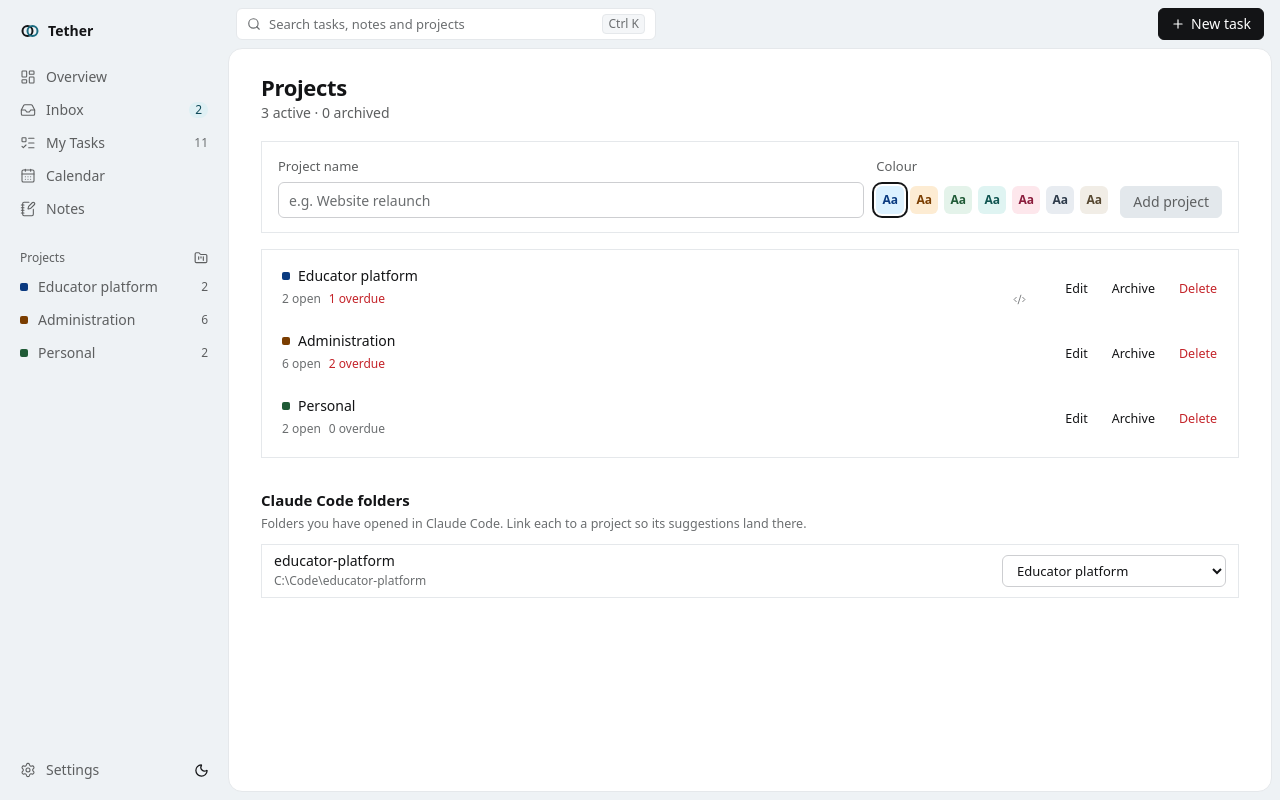
Test: Projects list › edits name, description and colour
This screenshot has width=1280, height=800.
Click the button with aria-label "Edit Personal".
click(1076, 418)  # box [1054,404,1099,432]
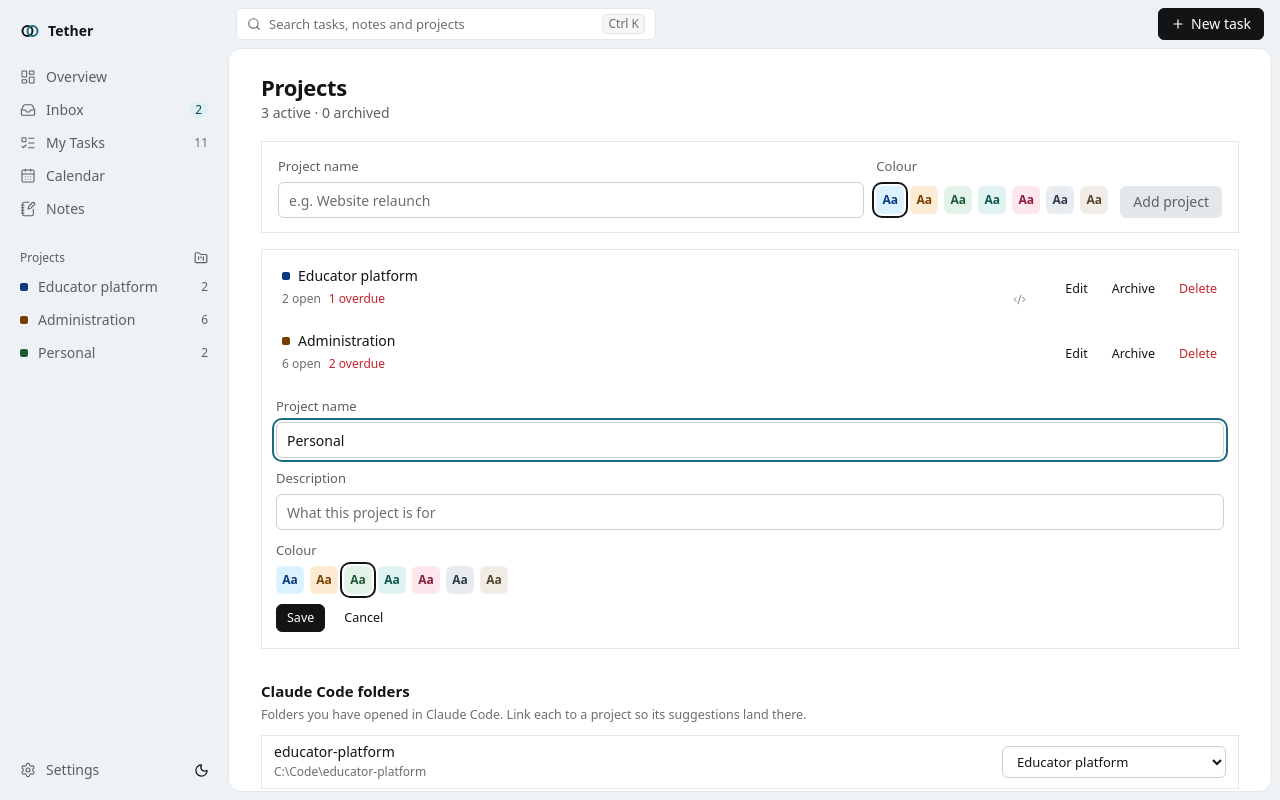
Replace the text in the 2nd field labelled "Project name" with "Home" at x=750, y=440, box [276,422,1224,458]
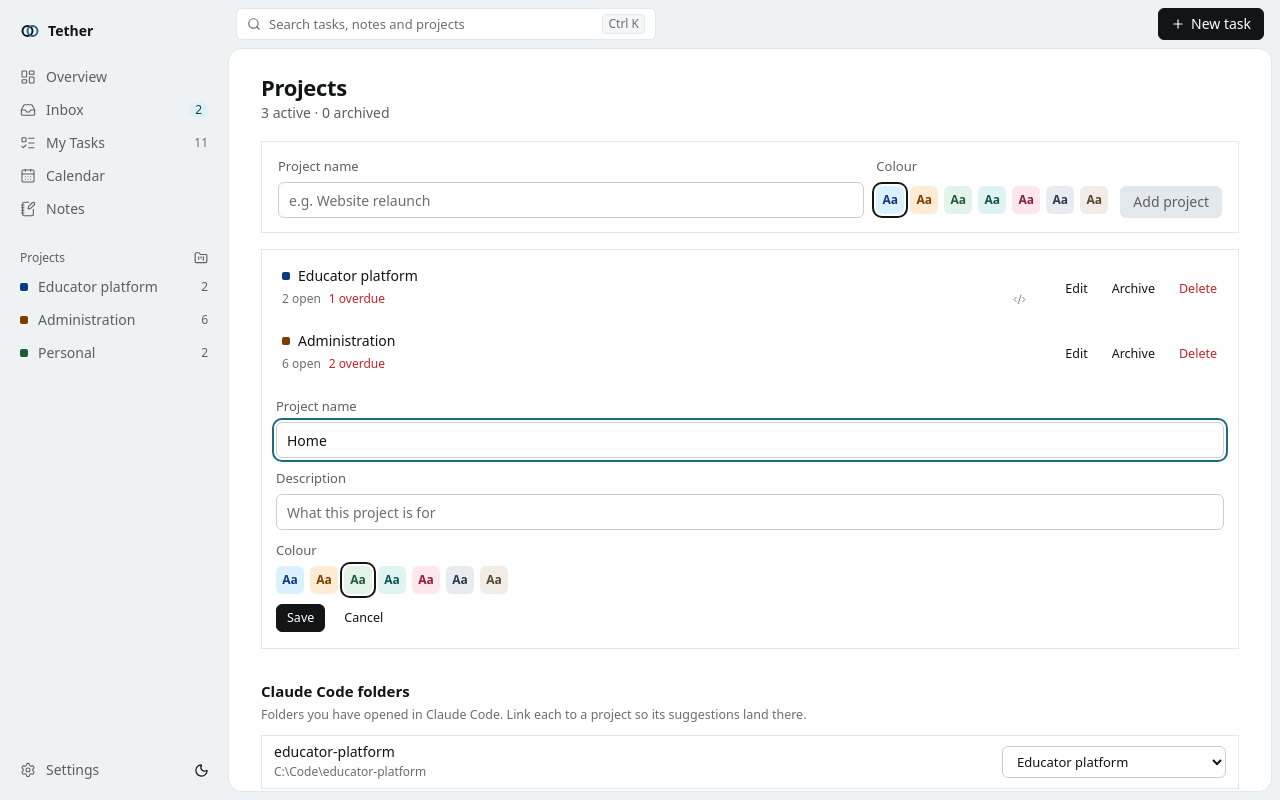
Click the button with aria-label "Rose".
click(426, 580)  # box [412,566,440,594]
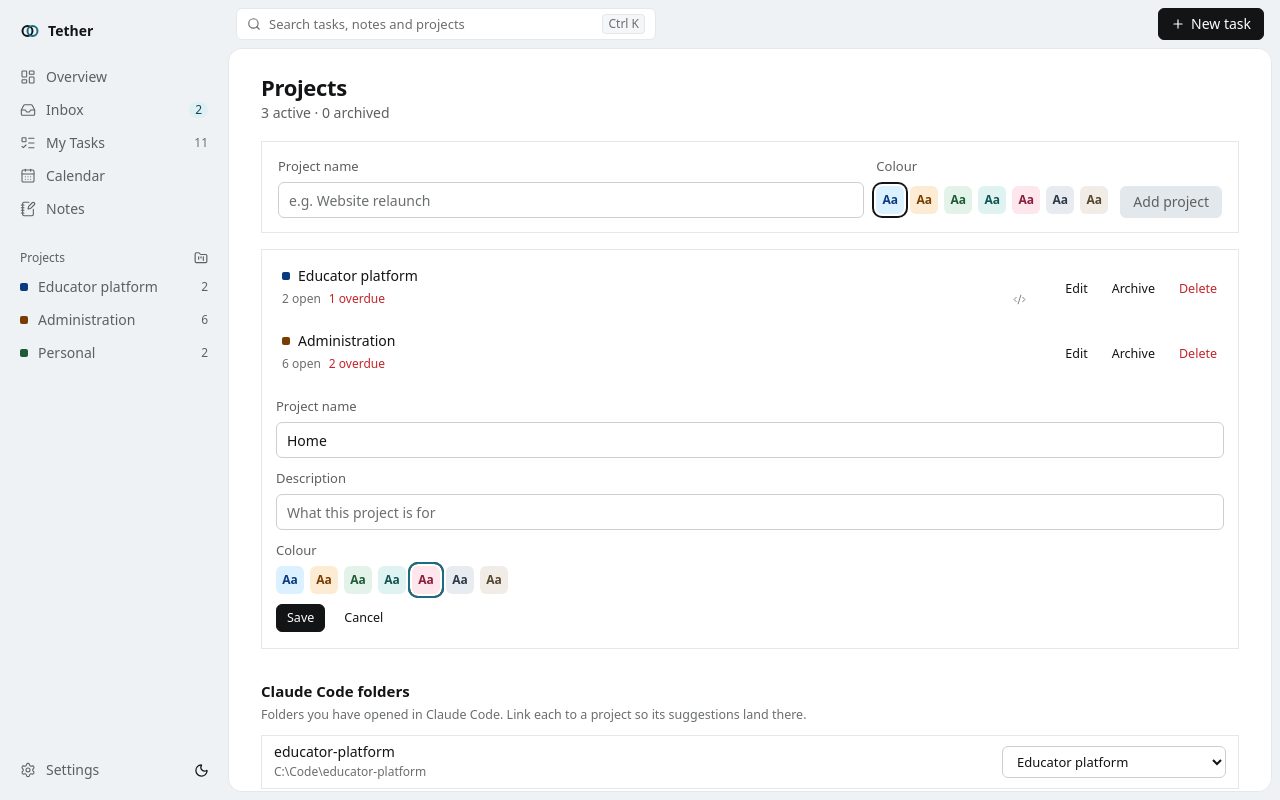
Click the button "Save".
click(301, 618)  # box [276,604,325,632]
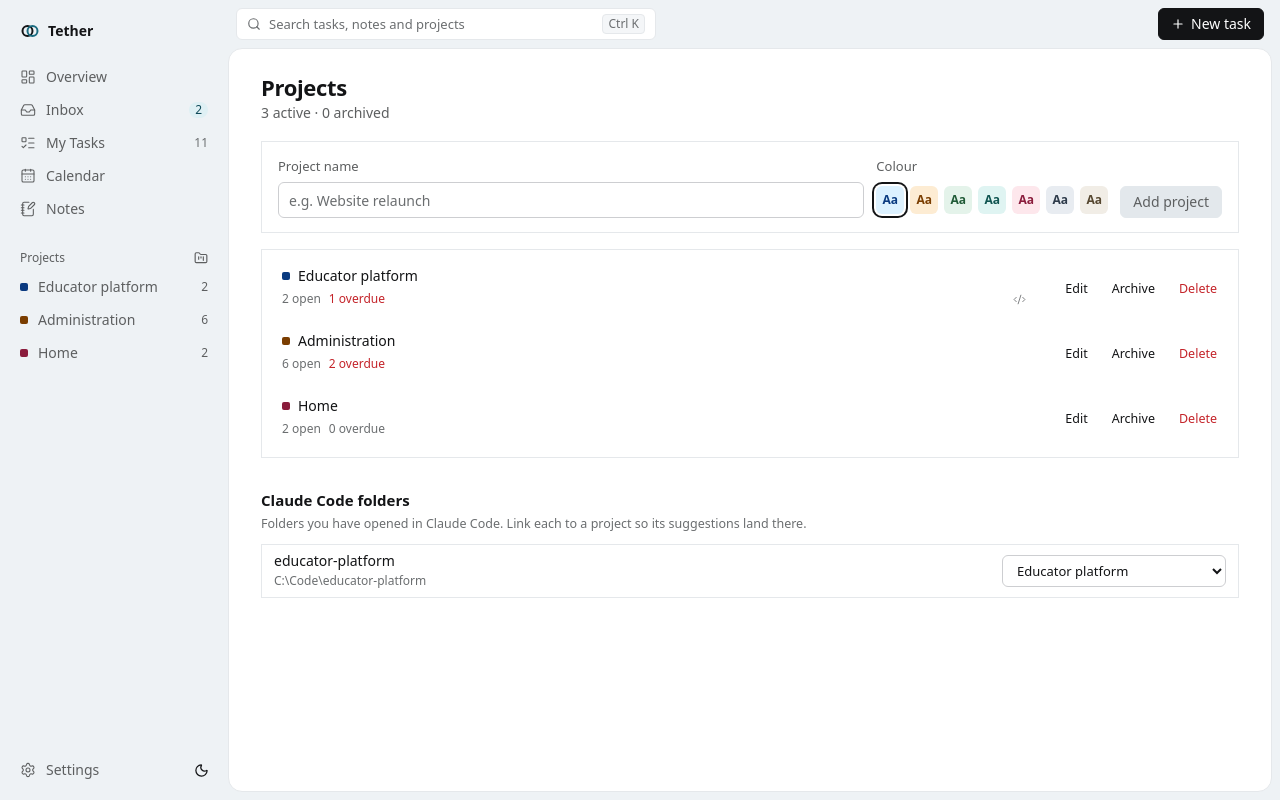
Result: the link "Home 2 open 0 overdue" is shown at [282,396,385,437]
